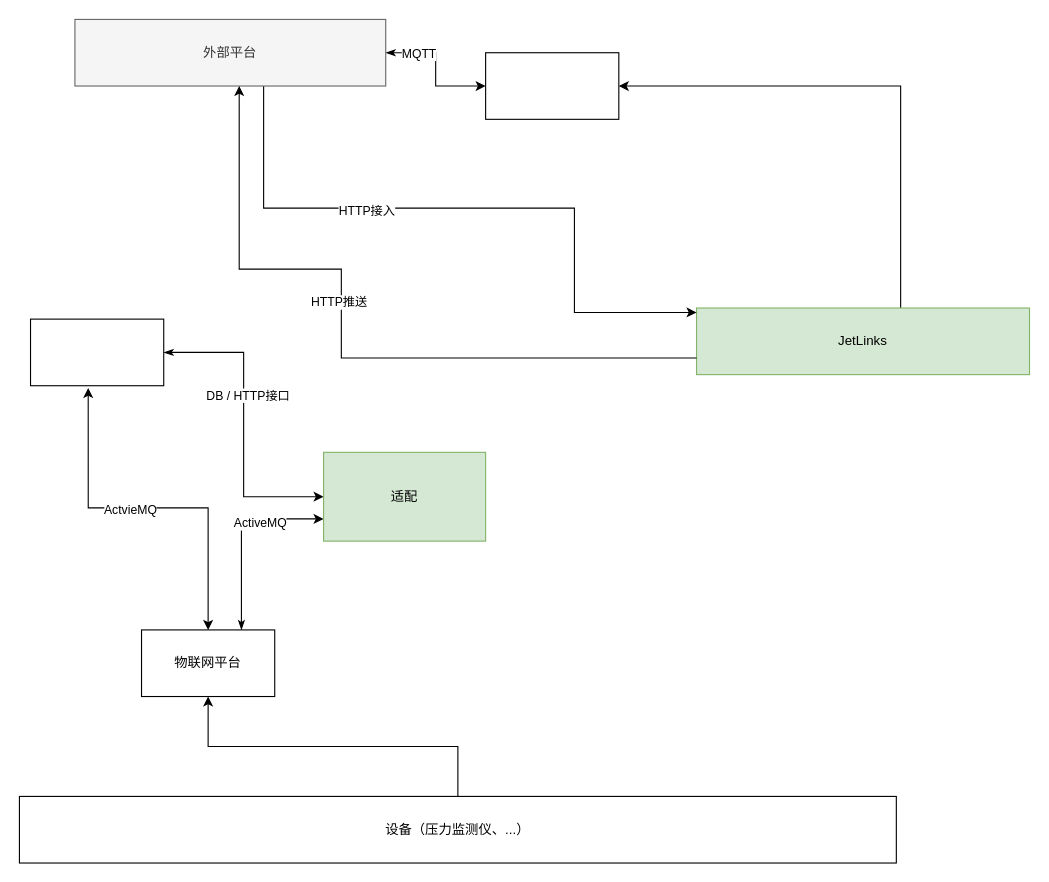
The diagram is 1049 pixels wide and 882 high, and some of its shapes have lost their labels. The box of each missing label's shape, as (x1, y1, x2, y2) in pixels:
MQTT代理服务器: (485, 52, 619, 119)
一体化平台 （运行调度平台）: (29, 318, 164, 386)
